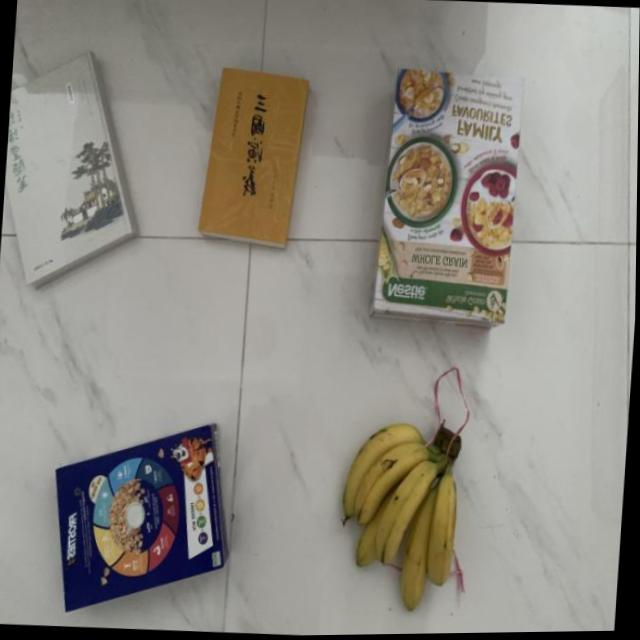Banana: (328, 413, 470, 620)
Book: (0, 42, 153, 296), (191, 62, 314, 256)
Cerealbox: (367, 60, 525, 337), (45, 409, 240, 623)
